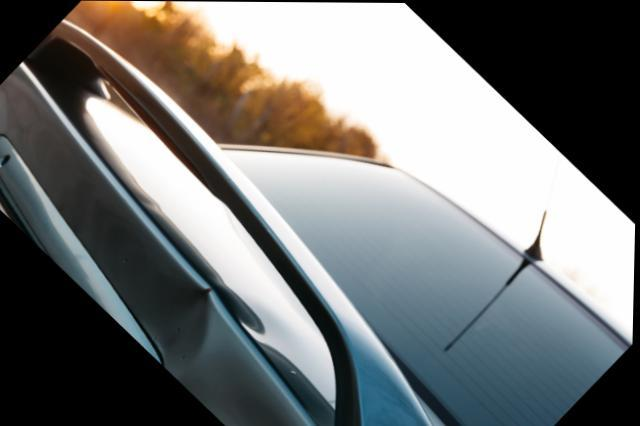dent: (135, 270, 211, 374)
